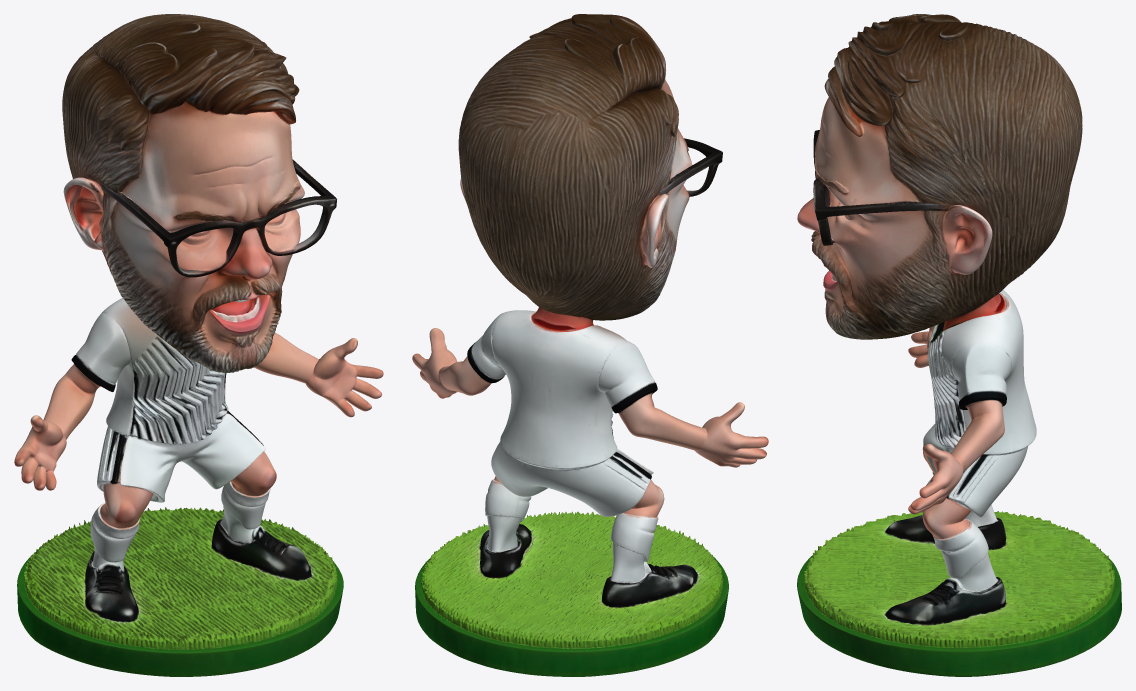
The model's file is PG-Subutteo.glb.
3 renders of one model, left to right at view 1: azimuth 30°, elevation 25°; view 2: azimuth 150°, elevation 25°; view 3: azimuth 270°, elevation 25°, orthographic. The views are drawn at different scales.
Visible parts, largest first — view 1: model; view 2: model; view 3: model.
Part boxes in pixels (x1,y1,x2,y2): model: (14, 14, 383, 676); model: (412, 14, 768, 676); model: (797, 14, 1121, 676).
Bounding box in the file's own units: 1.24 × 1.9 × 0.9569.
1 material, 1 textured.
